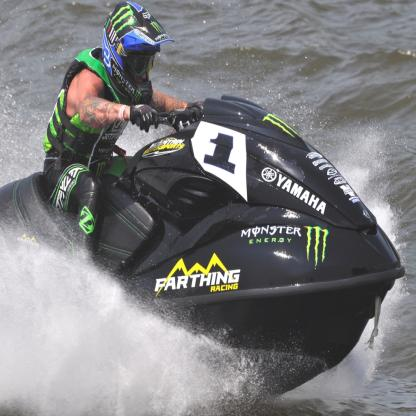Helmet: (96, 14, 165, 86)
